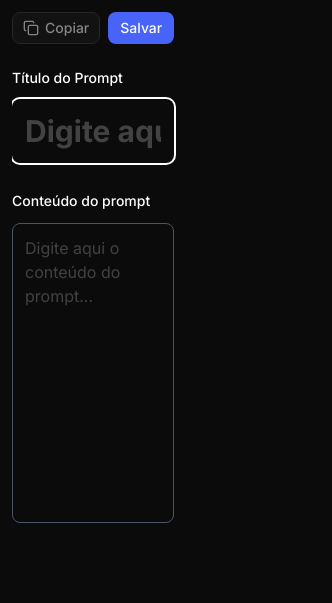
Test: PromptForm › should display error messages when form is empty and user tries to save it
This screenshot has width=332, height=603.
Step 1. Click the button "Salvar" → (141, 28), box top-left (108, 12), bottom-right (174, 44)
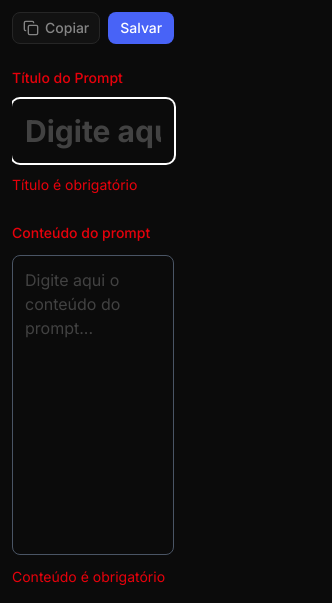
Now the text "Título é obrigatório" is shown, box top-left (12, 176), bottom-right (137, 193)
Now the text "Conteúdo é obrigatório" is shown, box top-left (12, 566), bottom-right (174, 586)
